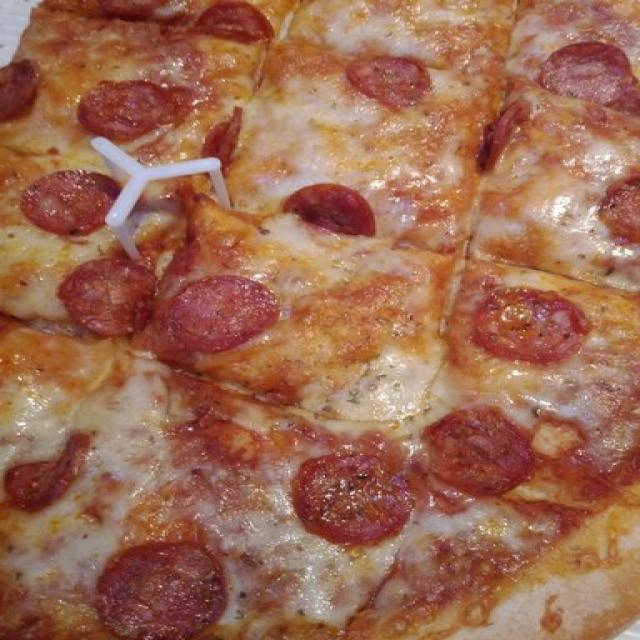Pepperoni: (291, 448, 409, 538), (106, 544, 218, 632), (478, 275, 588, 360), (428, 405, 535, 492), (80, 81, 194, 140), (65, 266, 164, 331), (22, 173, 118, 232), (176, 285, 268, 343), (548, 40, 626, 106), (287, 181, 372, 233), (361, 48, 434, 106), (598, 175, 640, 240), (17, 458, 71, 498)
Pizza: (0, 0, 640, 640)
